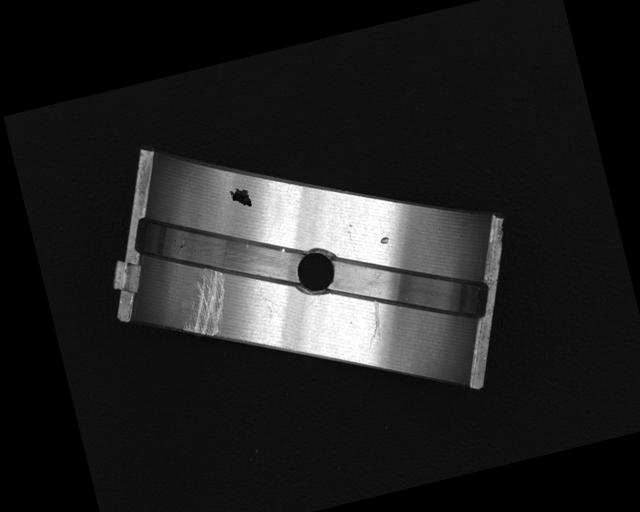blot: (227, 184, 255, 212)
bruise: (379, 234, 390, 245)
gap: (129, 183, 307, 314), (321, 230, 494, 349)
hole: (292, 246, 341, 298)
nick: (359, 300, 389, 347)
scratch: (173, 268, 236, 340)
